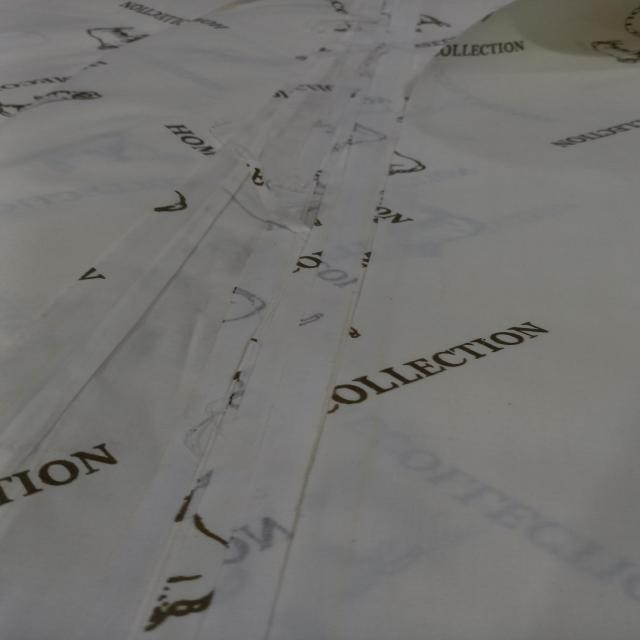cut: (217, 141, 319, 244)
